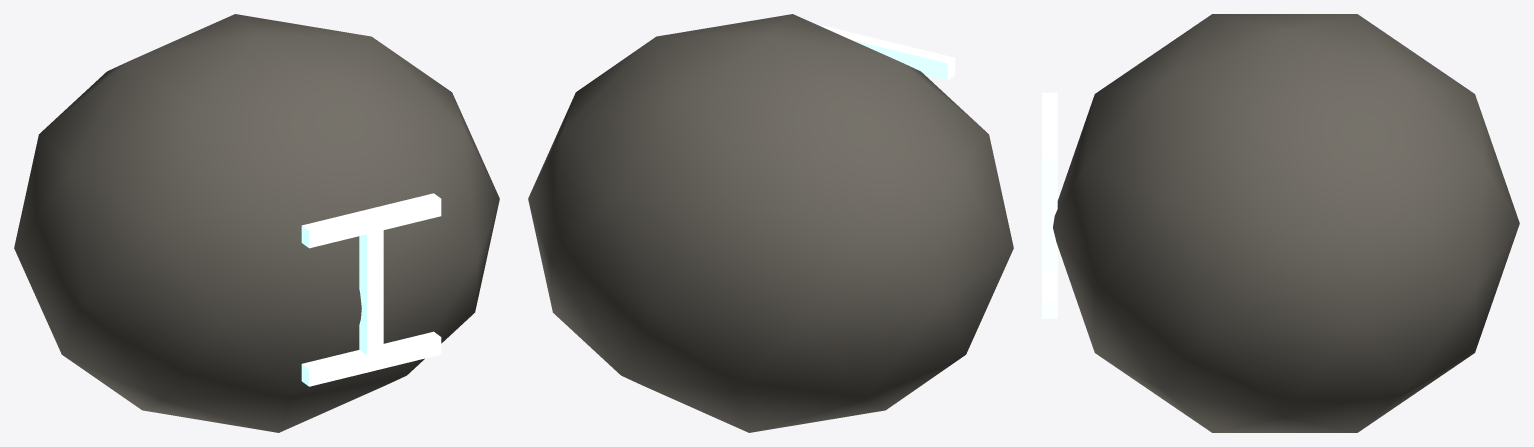
Rendered from vaultstone.glb.
The picture shows the model from 3 angles, left to right: view 1: azimuth 30°, elevation 25°; view 2: azimuth 150°, elevation 25°; view 3: azimuth 270°, elevation 25°; orthographic projection. The views are drawn at different scales.
Parts seen in each view (by area): view 1: building, runes; view 2: building, runes; view 3: building, runes.
Boxes of the visible parts, left/top/right/bottom form: building: left=14, top=14, right=499, bottom=432; runes: left=301, top=193, right=441, bottom=386; building: left=528, top=14, right=1013, bottom=432; runes: left=822, top=25, right=955, bottom=80; building: left=1053, top=14, right=1519, bottom=432; runes: left=1042, top=92, right=1057, bottom=318.
Size of the model in its own units: 1.26 by 1.08 by 1.22.
